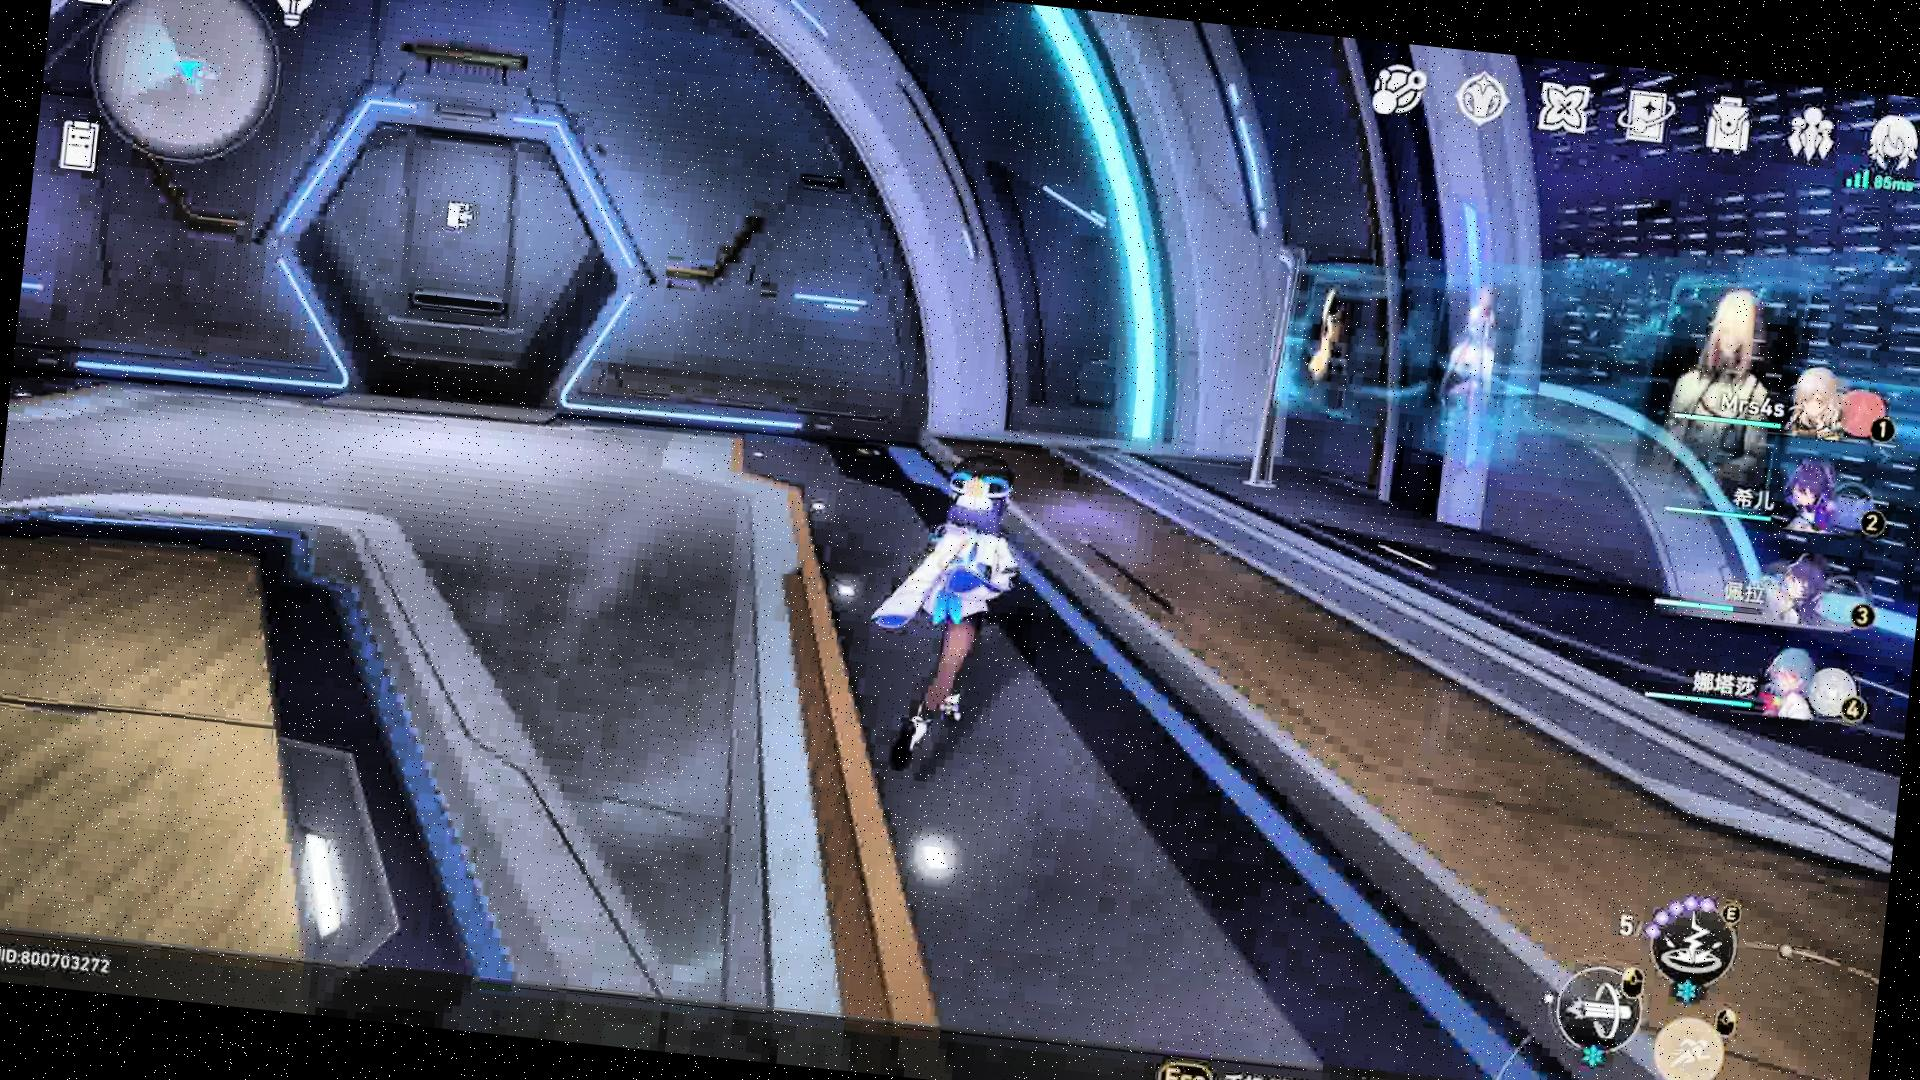Self: (856, 444, 1030, 785)
